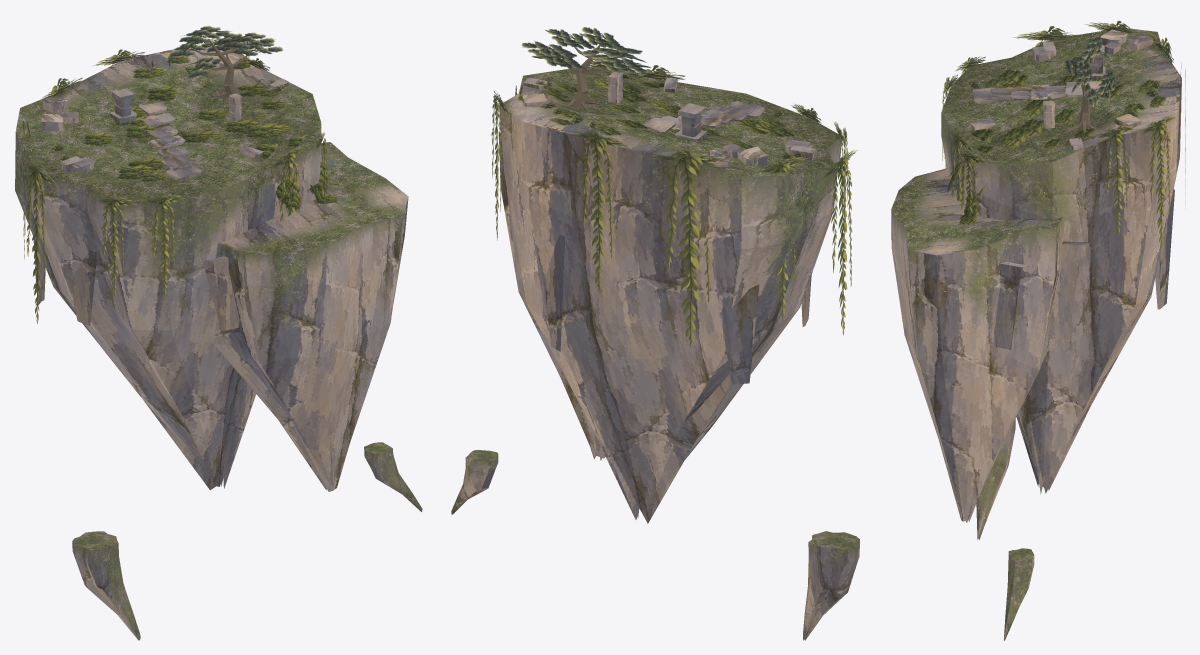
File: chunk.glb
3 renders of one model, left to right at view 1: azimuth 30°, elevation 25°; view 2: azimuth 150°, elevation 25°; view 3: azimuth 270°, elevation 25°, orthographic. The views are drawn at different scales.
Visible parts, largest first — view 1: chunk-continuous-fractured-stone, chunk-painted-pine-ivy-and-moss, chunk-ruins-path-and-splintered-ledges, chunk-long-hanging-vine-quads, chunk-satellite-0-continuous-fractured-stone, chunk-satellite-1-continuous-fractured-stone, chunk-summit-soil-and-bent-trunks; view 2: chunk-continuous-fractured-stone, chunk-ruins-path-and-splintered-ledges, chunk-long-hanging-vine-quads, chunk-painted-pine-ivy-and-moss, chunk-satellite-0-continuous-fractured-stone, chunk-satellite-1-continuous-fractured-stone, chunk-summit-soil-and-bent-trunks; view 3: chunk-continuous-fractured-stone, chunk-ruins-path-and-splintered-ledges, chunk-painted-pine-ivy-and-moss, chunk-long-hanging-vine-quads, chunk-satellite-1-continuous-fractured-stone, chunk-satellite-0-continuous-fractured-stone, chunk-summit-soil-and-bent-trunks.
Boxes of the visible parts, x1=… form: chunk-continuous-fractured-stone: x1=15, y1=46, x2=408, y2=491; chunk-painted-pine-ivy-and-moss: x1=24, y1=26, x2=338, y2=211; chunk-ruins-path-and-splintered-ledges: x1=33, y1=55, x2=288, y2=330; chunk-long-hanging-vine-quads: x1=22, y1=47, x2=326, y2=323; chunk-satellite-0-continuous-fractured-stone: x1=72, y1=531, x2=140, y2=640; chunk-satellite-1-continuous-fractured-stone: x1=364, y1=442, x2=422, y2=511; chunk-summit-soil-and-bent-trunks: x1=191, y1=38, x2=247, y2=103; chunk-continuous-fractured-stone: x1=499, y1=66, x2=842, y2=523; chunk-ruins-path-and-splintered-ledges: x1=495, y1=72, x2=817, y2=384; chunk-long-hanging-vine-quads: x1=491, y1=61, x2=851, y2=348; chunk-painted-pine-ivy-and-moss: x1=494, y1=27, x2=857, y2=179; chunk-satellite-0-continuous-fractured-stone: x1=803, y1=531, x2=859, y2=640; chunk-satellite-1-continuous-fractured-stone: x1=451, y1=450, x2=498, y2=514; chunk-summit-soil-and-bent-trunks: x1=560, y1=44, x2=609, y2=111; chunk-continuous-fractured-stone: x1=891, y1=28, x2=1181, y2=522; chunk-ruins-path-and-splintered-ledges: x1=970, y1=29, x2=1174, y2=349; chunk-painted-pine-ivy-and-moss: x1=942, y1=22, x2=1181, y2=225; chunk-long-hanging-vine-quads: x1=942, y1=20, x2=1185, y2=248; chunk-satellite-1-continuous-fractured-stone: x1=1004, y1=548, x2=1034, y2=640; chunk-satellite-0-continuous-fractured-stone: x1=976, y1=419, x2=1015, y2=540; chunk-summit-soil-and-bent-trunks: x1=1068, y1=52, x2=1098, y2=132.
Size of the model in its own units: 33.36 by 47.82 by 22.61.
Materials: 7 (6 with a texture image).
